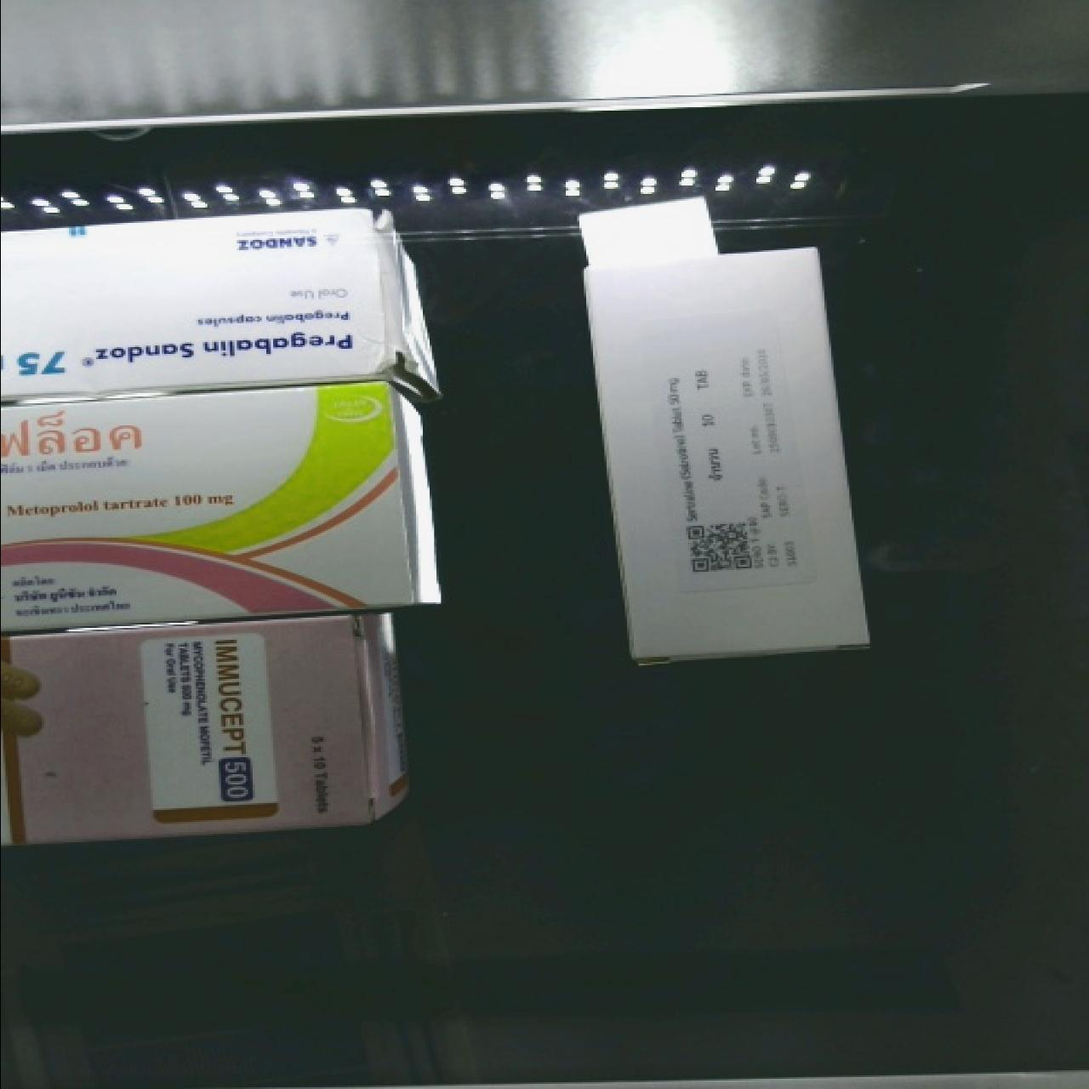medicine_label_obb: (5, 312, 381, 391), (195, 631, 271, 815), (0, 397, 162, 481)
qr_code: (660, 500, 778, 595)
